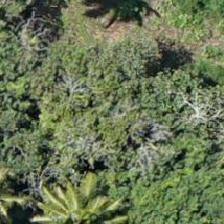Kelapa_Sawit: (35, 177, 125, 224)
